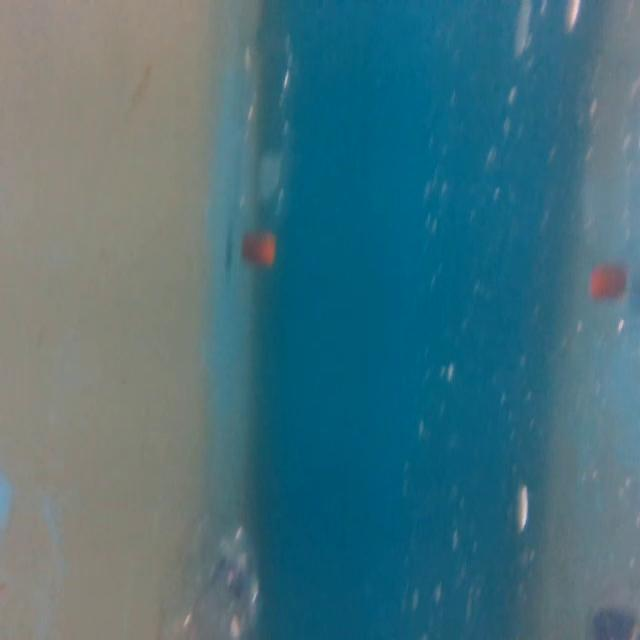plastic bags: (170, 506, 268, 640)
plastic bottle: (230, 22, 300, 270)
